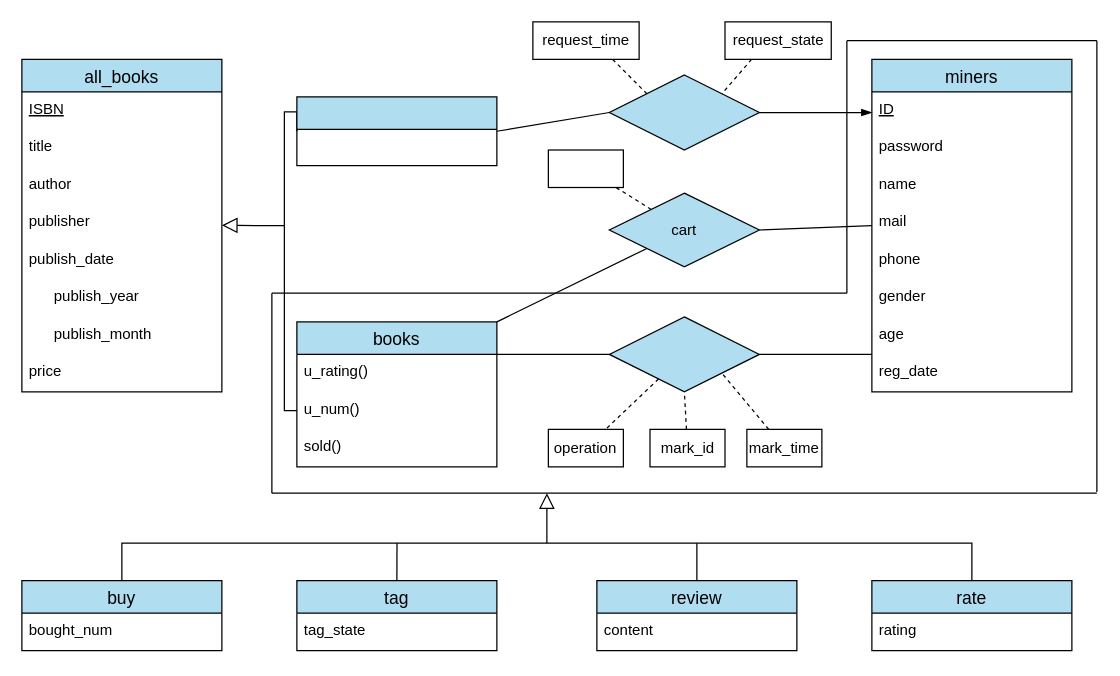
This 1120x676 diagram has some shape labels left out. The centre of each missing label's shape, as x and y in pixels:
cart_num: point 585,168
marks: point 683,354
request: point 683,112
requested_books: point 396,131
